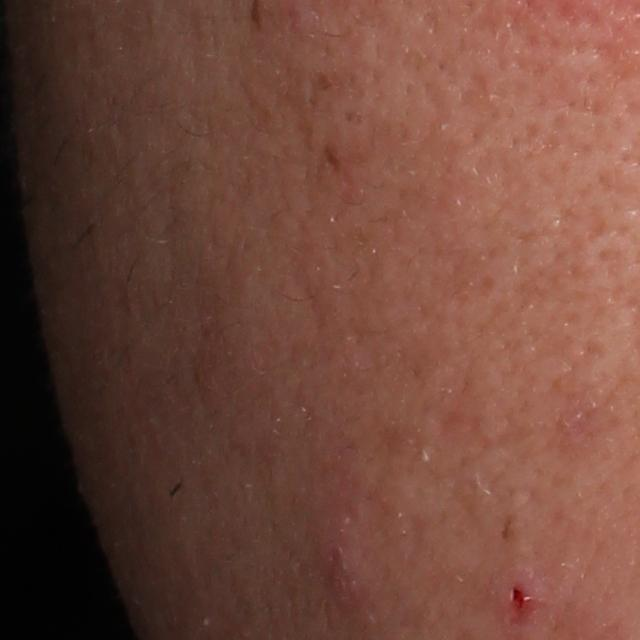papule: (306, 509, 391, 613), (492, 570, 541, 623)
